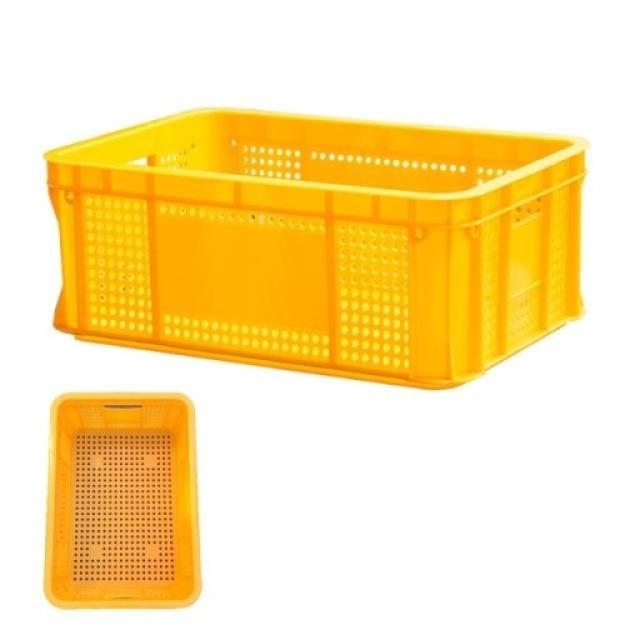basket: (29, 95, 597, 400), (45, 395, 202, 611)
